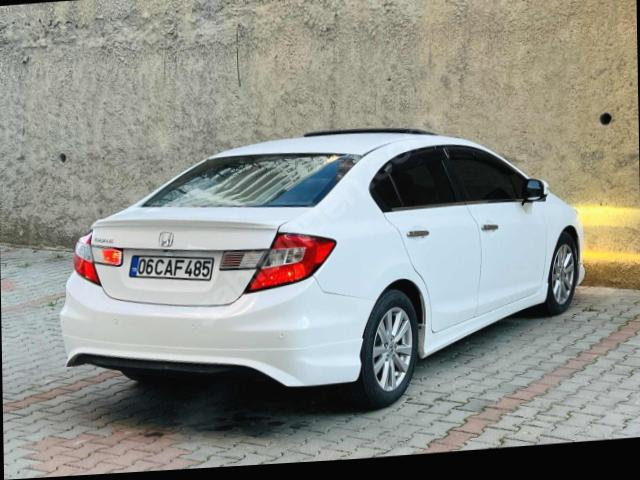plaka: (129, 254, 214, 280)
